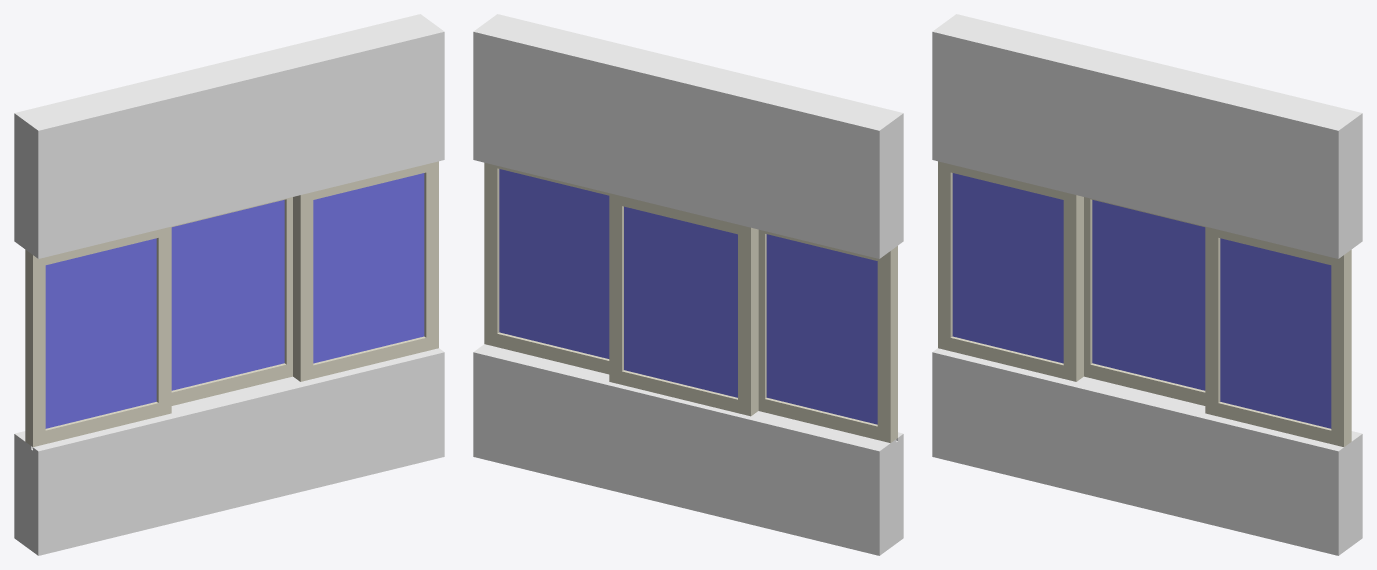
The model's file is Operating_room_Window3-2-1.fbx.
3 views of the same model, side by side, from view 1: azimuth 30°, elevation 25°; view 2: azimuth 150°, elevation 25°; view 3: azimuth 330°, elevation 25° (orthographic).
Visible parts, largest first — view 1: Operating room Window3-2.002, Operating room Window3-2.000, Operating room Window3-2.008, Operating room Window3-2.003, Operating room Window3-2.006, Operating room Window3-2.001, Operating room Window3-2.005, Operating room Window3-2.004; view 2: Operating room Window3-2.002, Operating room Window3-2.000, Operating room Window3-2.008, Operating room Window3-2.003, Operating room Window3-2.006, Operating room Window3-2.004, Operating room Window3-2.001, Operating room Window3-2.005; view 3: Operating room Window3-2.002, Operating room Window3-2.000, Operating room Window3-2.008, Operating room Window3-2.006, Operating room Window3-2.003, Operating room Window3-2.005, Operating room Window3-2.001, Operating room Window3-2.004.
Boxes of the visible parts, x1,y1,x2,y2 form: Operating room Window3-2.002: (14, 14, 444, 258); Operating room Window3-2.000: (14, 348, 444, 555); Operating room Window3-2.008: (171, 200, 284, 390); Operating room Window3-2.003: (45, 238, 156, 428); Operating room Window3-2.006: (313, 173, 424, 363); Operating room Window3-2.001: (25, 226, 171, 446); Operating room Window3-2.005: (293, 161, 438, 381); Operating room Window3-2.004: (171, 197, 292, 405); Operating room Window3-2.002: (473, 14, 903, 258); Operating room Window3-2.000: (473, 344, 903, 555); Operating room Window3-2.008: (624, 206, 737, 397); Operating room Window3-2.003: (766, 234, 877, 424); Operating room Window3-2.006: (499, 169, 609, 358); Operating room Window3-2.004: (609, 193, 758, 416); Operating room Window3-2.001: (758, 229, 897, 442); Operating room Window3-2.005: (484, 162, 609, 374); Operating room Window3-2.002: (932, 14, 1362, 258); Operating room Window3-2.000: (932, 348, 1362, 555); Operating room Window3-2.008: (1092, 200, 1205, 390); Operating room Window3-2.006: (1220, 238, 1331, 428); Operating room Window3-2.003: (952, 173, 1063, 363); Operating room Window3-2.005: (1205, 226, 1351, 446); Operating room Window3-2.001: (938, 161, 1083, 381); Operating room Window3-2.004: (1084, 197, 1205, 405).
Size of the model in its own units: 12.6 by 12.6 by 1.3.
